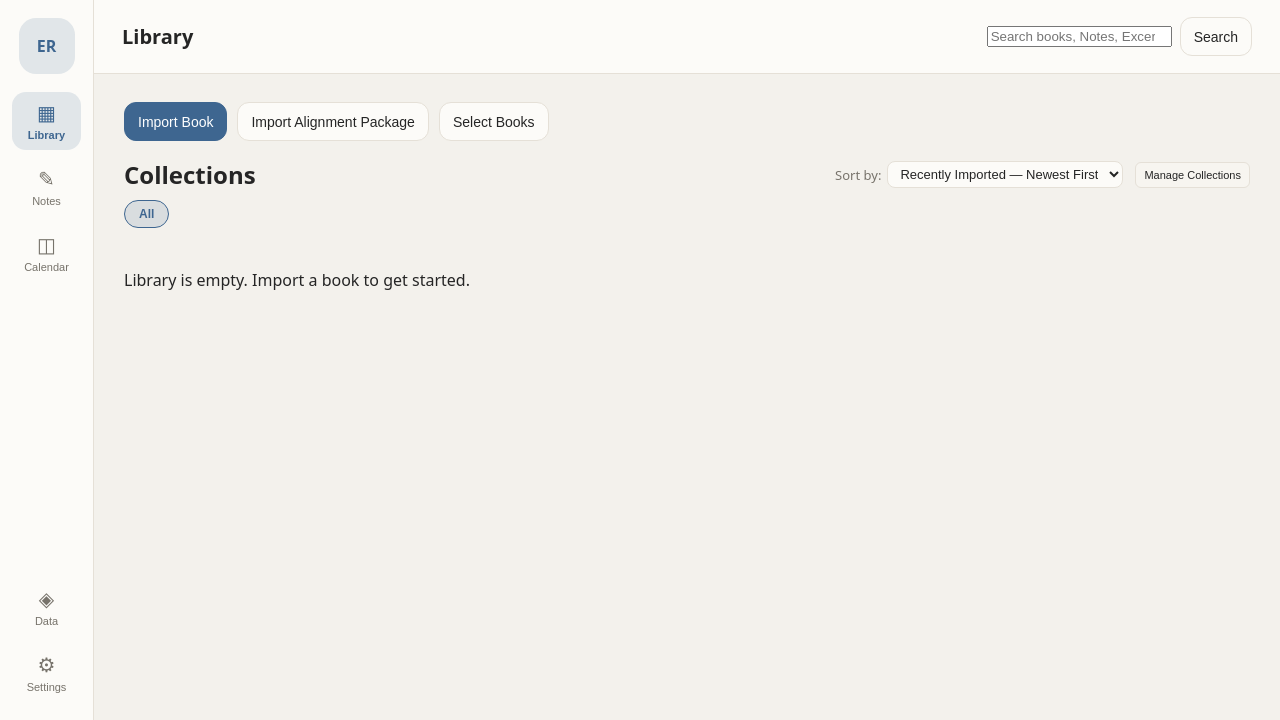
Test: Book Hours Planning — Frontend Foundation & Overview (BH-3A & BH-3B) › navigates from Data workspace Book Data card to Book Hours Planning and back
The image size is (1280, 720).
// Navigate to Data
Click the button "◈ Data" at x=46, y=607, box x1=12 y1=578 x2=81 y2=636
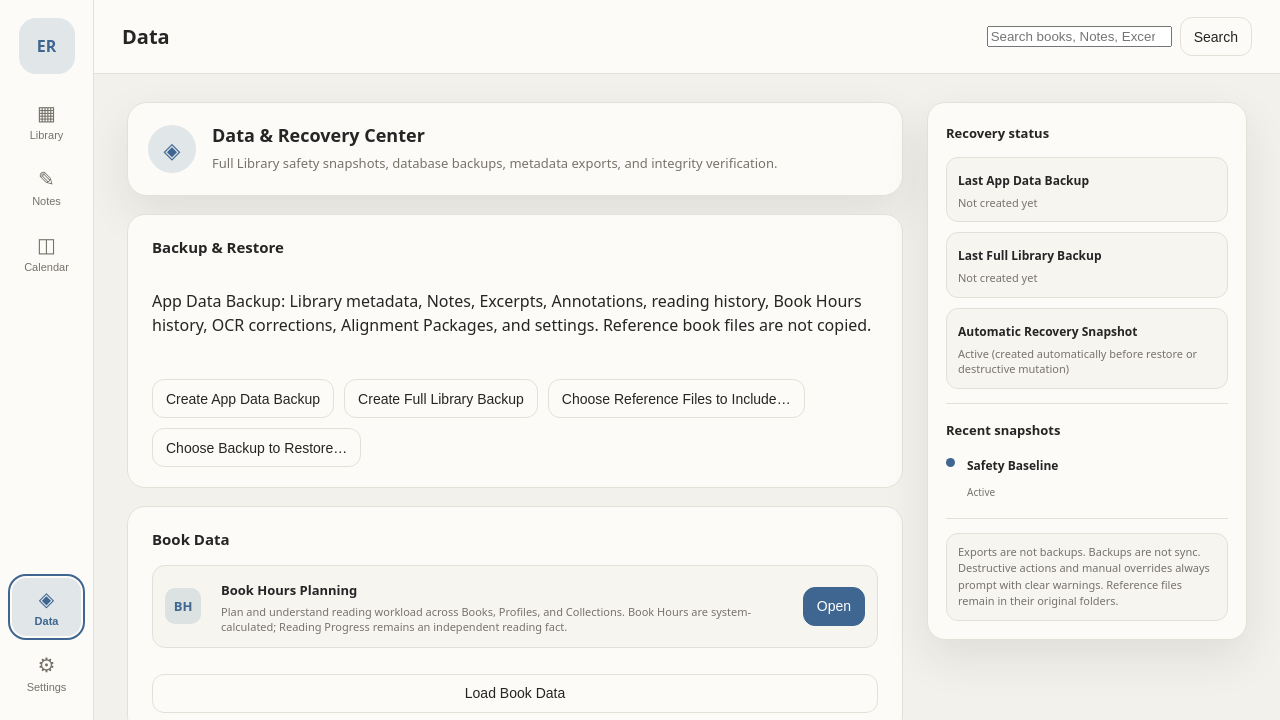
Now the element named "Data and Recovery" is shown
Now the element "Book Data" is shown, box x1=127 y1=506 x2=903 y2=719
Now the button "Open" is shown
// Click Open to navigate into Book Hours Planning
Click the button "Open" at x=834, y=606, box x1=803 y1=587 x2=865 y2=626
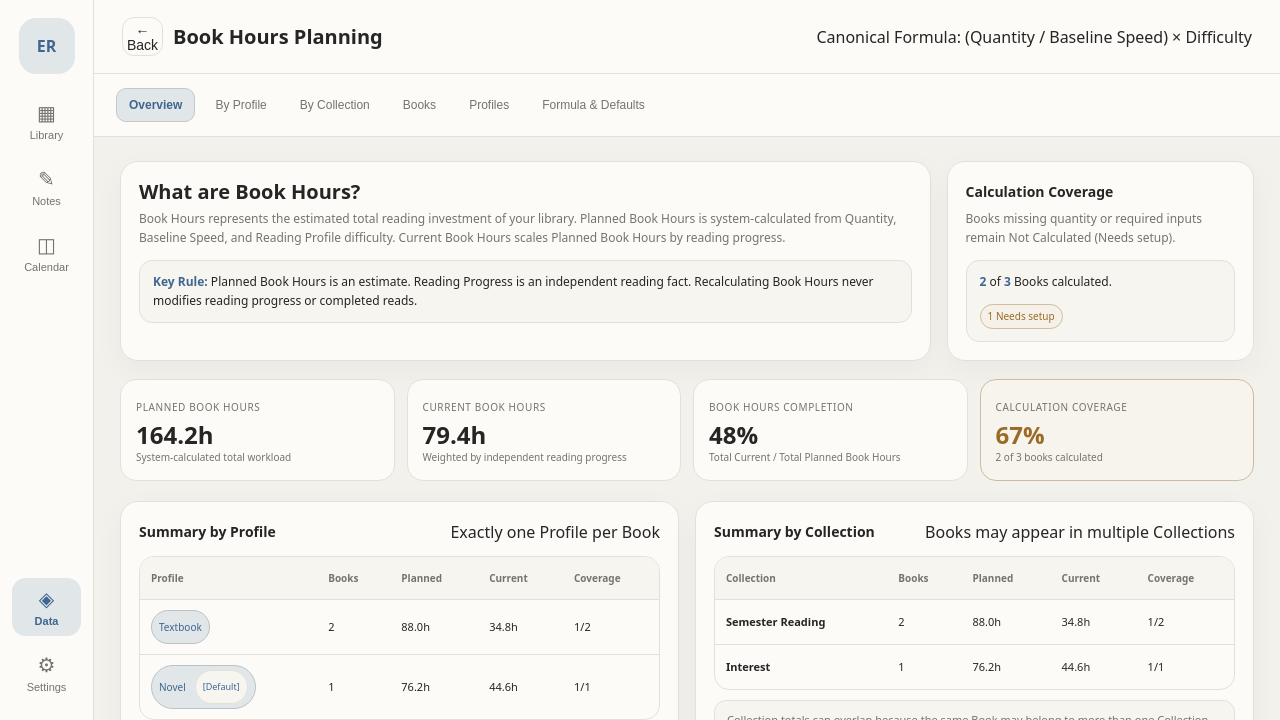
Now the element "Book Hours Planning" is shown
Now the heading "What are Book Hours?" is shown, box x1=139 y1=178 x2=360 y2=205
// Back button returns to Data
Click the button with aria-label "Back to Data" at x=142, y=36, box x1=122 y1=17 x2=163 y2=56
(page scrolled)
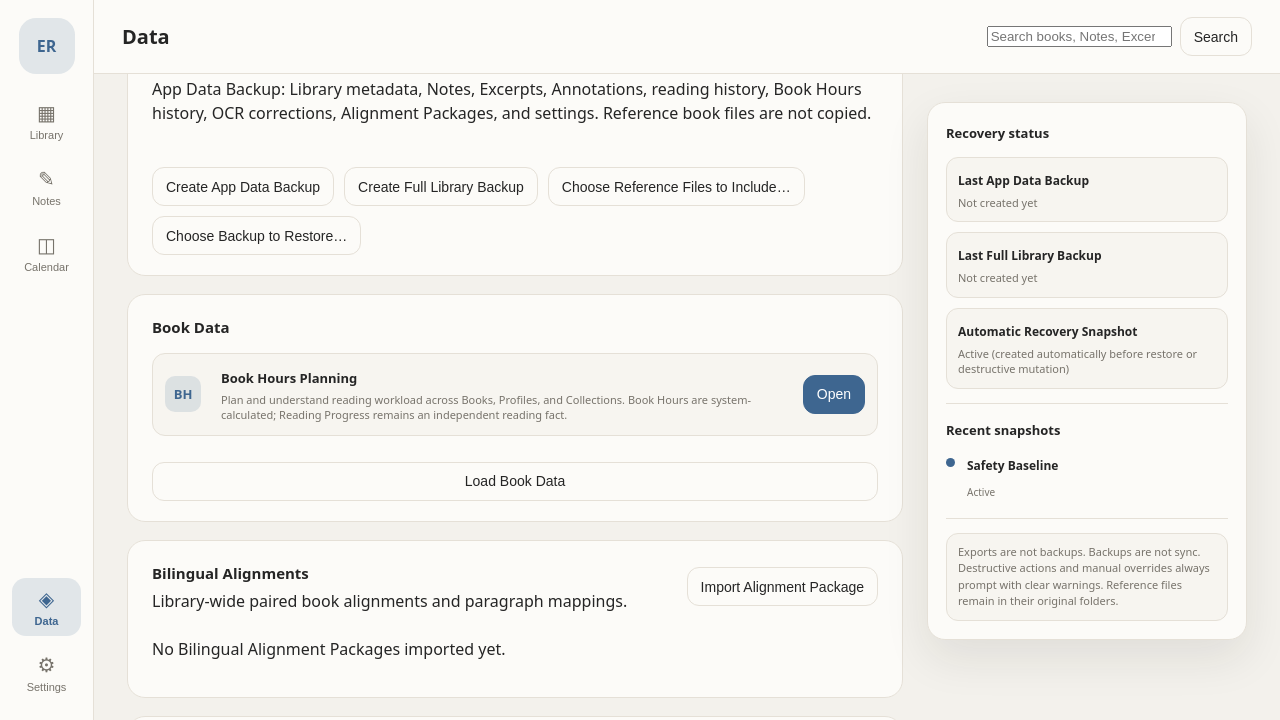
Now the element named "Data and Recovery" is shown
